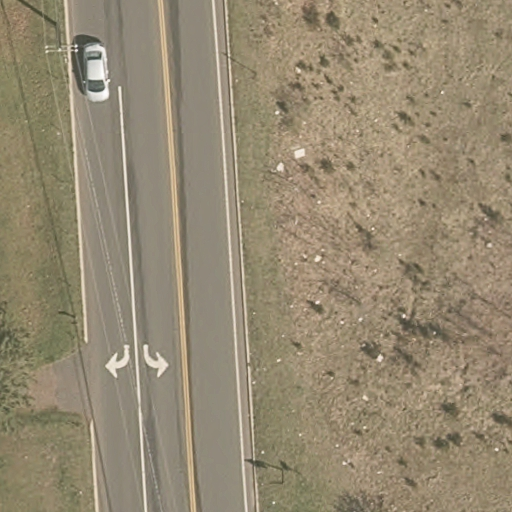DT: (39, 11, 90, 60)
